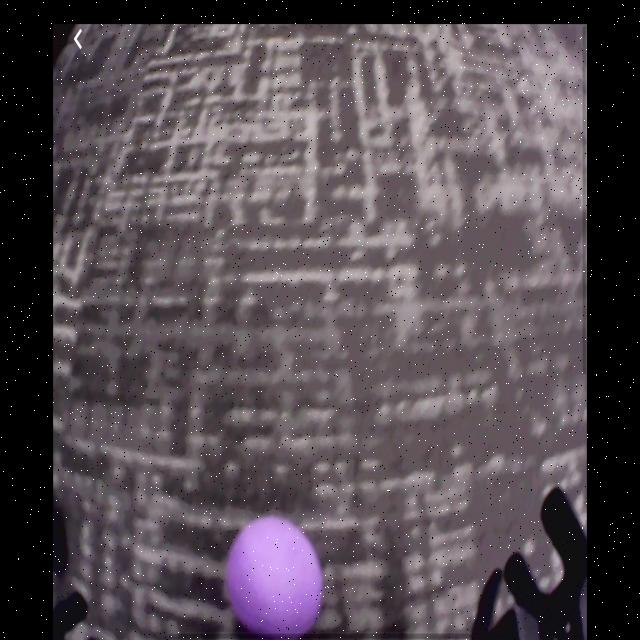ball: (227, 517, 324, 637)
